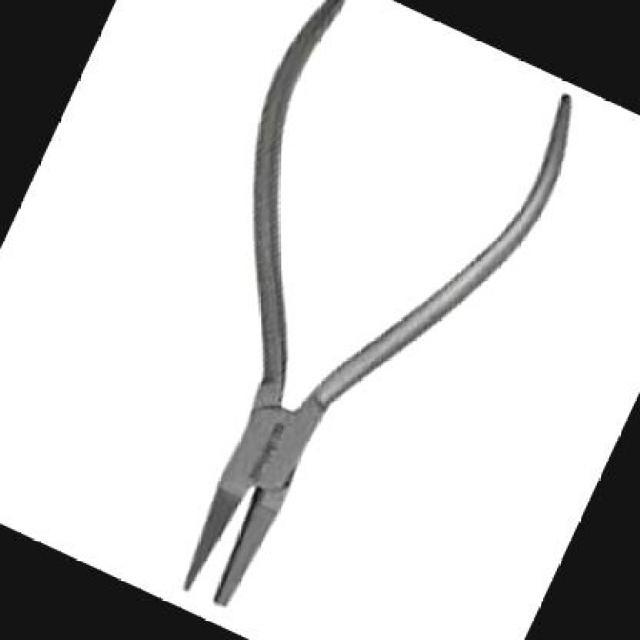pliers: (52, 0, 609, 638)
